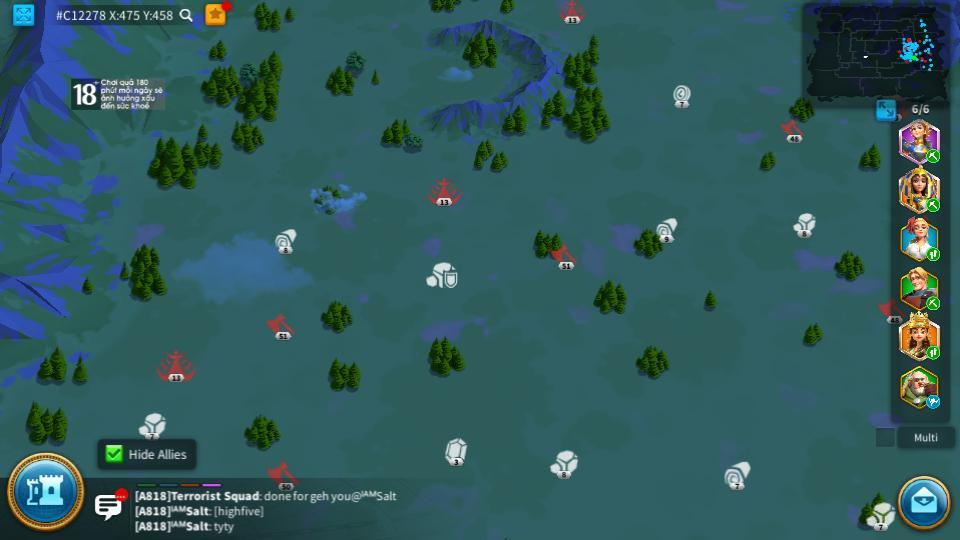gem-z-out: (444, 438, 468, 466), (144, 413, 164, 425)
march_idle: (925, 396, 942, 408)
march_marching: (925, 196, 941, 211), (925, 345, 941, 359), (923, 248, 940, 260), (925, 150, 941, 162), (925, 297, 942, 308)
